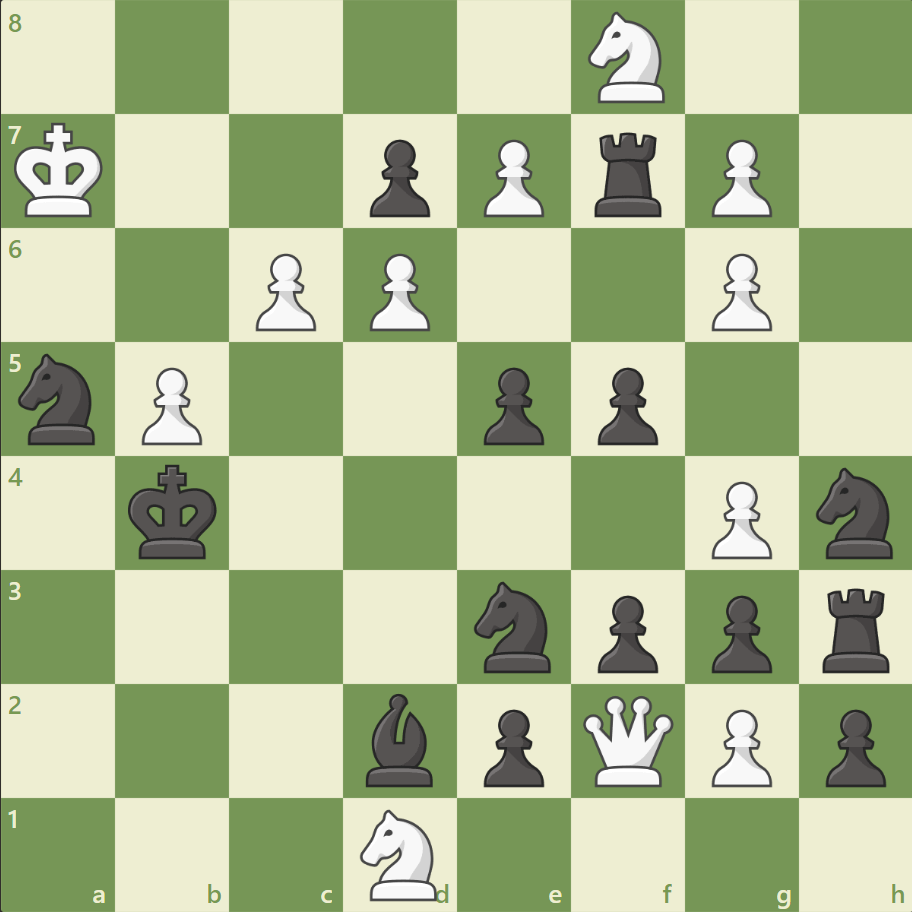K: (11, 117, 111, 225)
N: (351, 802, 449, 904), (579, 7, 676, 110)
P: (474, 132, 549, 223), (701, 132, 776, 223), (247, 246, 322, 337), (701, 246, 776, 337), (133, 359, 208, 450), (701, 473, 776, 564), (701, 700, 776, 791), (361, 246, 435, 337)
Q: (578, 690, 677, 789)
b: (358, 687, 442, 790)
k: (124, 458, 224, 566)
n: (806, 461, 903, 564), (11, 348, 108, 450), (465, 575, 562, 677)
p: (474, 359, 549, 450), (701, 586, 776, 677), (474, 700, 549, 791), (361, 132, 435, 223), (588, 359, 662, 450), (588, 586, 662, 677), (815, 700, 889, 791)
r: (587, 125, 670, 222), (814, 579, 897, 676)
